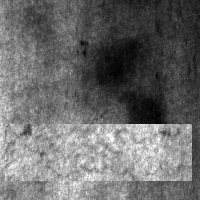crazing: (5, 124, 192, 181)
patches: (118, 92, 165, 158), (93, 36, 137, 83)
